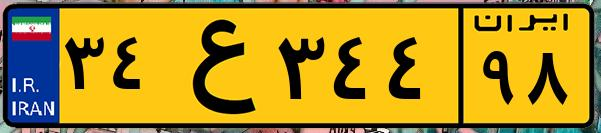3: (270, 28, 330, 110), (57, 26, 110, 100)
4: (385, 28, 445, 110), (330, 28, 385, 110), (110, 28, 158, 98)
8: (525, 38, 570, 115)
9: (475, 38, 525, 113)
ع: (158, 12, 270, 120)
